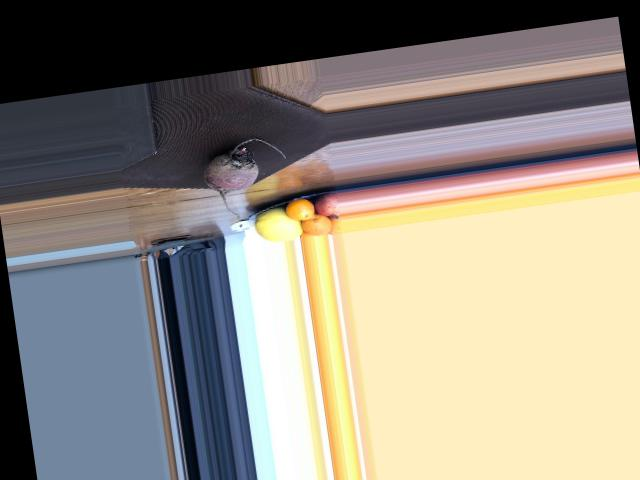beet: (199, 134, 292, 218)
